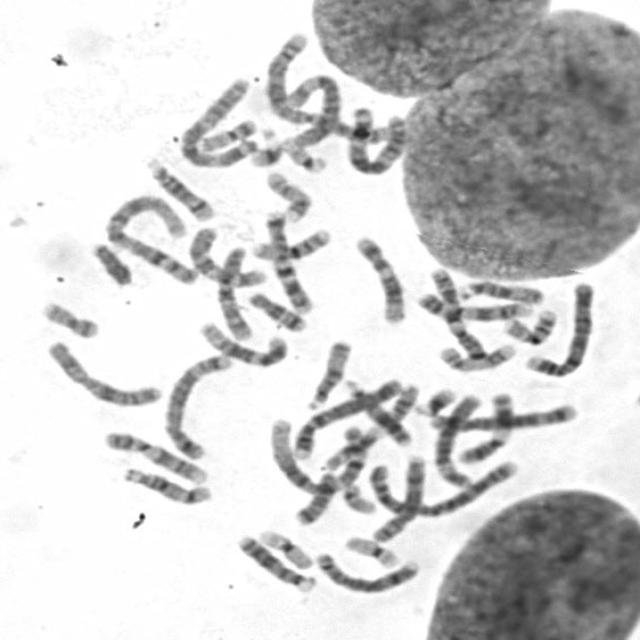A1: (98, 188, 202, 288), (265, 416, 376, 498)
A2: (262, 28, 393, 146), (360, 452, 524, 520)
A3: (174, 70, 263, 170), (342, 100, 410, 176)
B4: (288, 375, 409, 460), (522, 276, 599, 379)
B5: (157, 346, 236, 461), (425, 398, 582, 434)
C10: (183, 222, 270, 289), (213, 243, 254, 341)
C11: (313, 377, 420, 471), (454, 387, 518, 465)
C12: (351, 230, 409, 324), (195, 316, 292, 368)
C6: (429, 386, 488, 489), (281, 69, 344, 149)
C7: (427, 263, 491, 363), (258, 206, 316, 315)
C8: (310, 546, 424, 596), (367, 451, 428, 543)
C9: (98, 425, 212, 486), (410, 288, 536, 322)
D13: (231, 529, 318, 593), (337, 374, 411, 448)
D14: (139, 153, 217, 223), (117, 462, 214, 506)
D15: (301, 335, 354, 411), (453, 275, 548, 306)
E16: (247, 224, 335, 262), (499, 303, 560, 345)
E17: (261, 165, 314, 223), (433, 338, 519, 373)
E18: (242, 286, 310, 334), (288, 468, 339, 526)
F19: (253, 524, 315, 570), (339, 531, 403, 569)
F20: (36, 295, 102, 340), (196, 115, 260, 154)
G21: (409, 382, 459, 417), (246, 130, 286, 168)
G22: (279, 136, 329, 174), (337, 478, 378, 516)
X: (41, 334, 166, 409)
Y: (86, 236, 136, 288)
